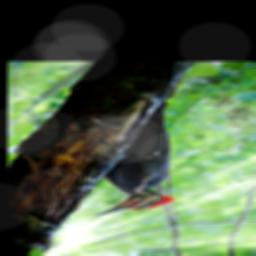Woodpecker: (92, 100, 177, 217)
